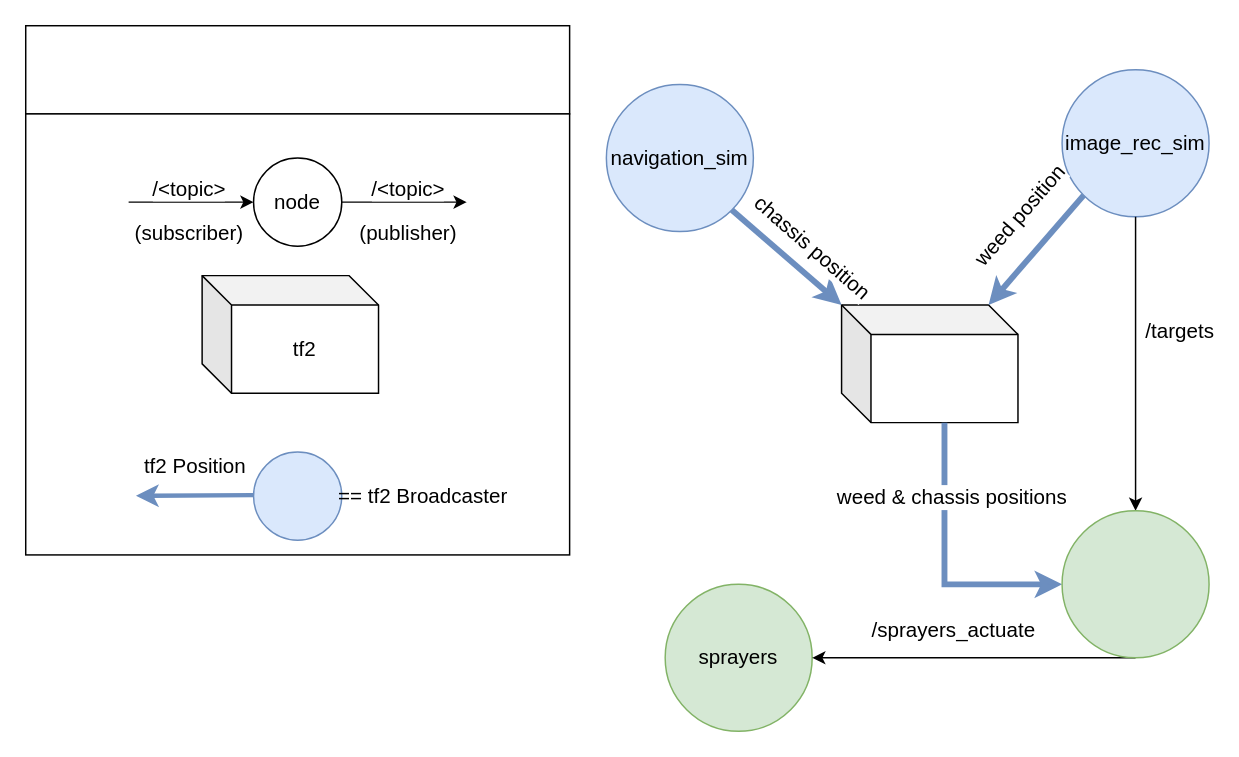
This 1239x757 diagram has some shape labels left out. Here are the shapes that lost their labels. From the top down, the box of each, then its label:
(24, 24, 570, 114): Legend
(840, 304, 1018, 423): tf2 Transform Interface
(1061, 509, 1209, 658): weed_sorting
